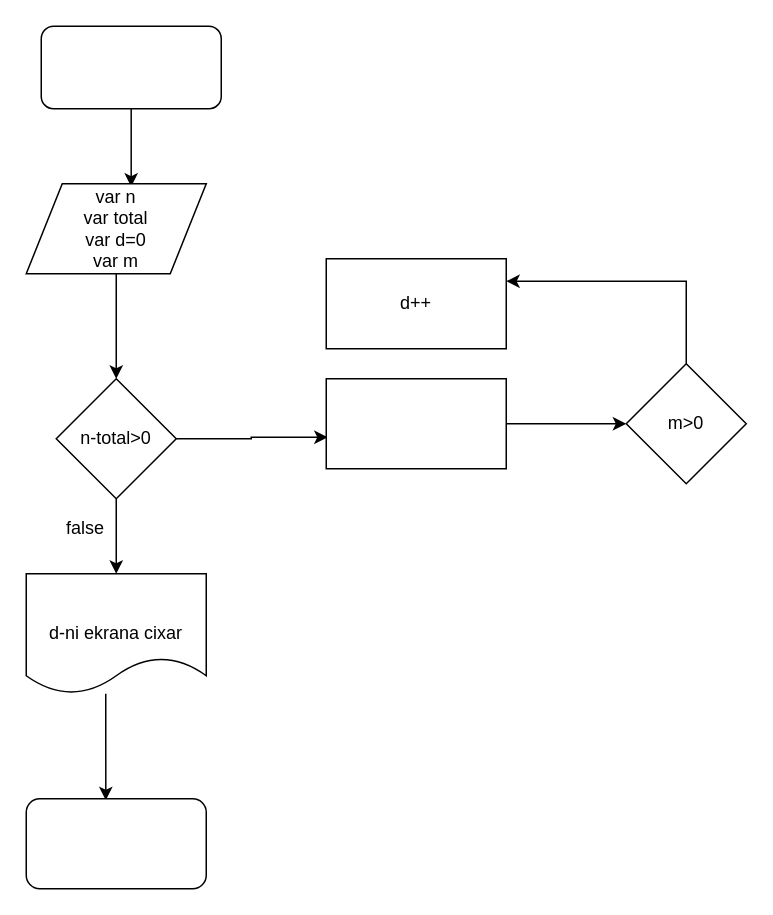
Image size: 773x915. Some labels were removed from this diagram. Each missing label, with the centre of its shape:
end: the point at 115,843
m=n-total: the point at 415,423
start: the point at 130,67
